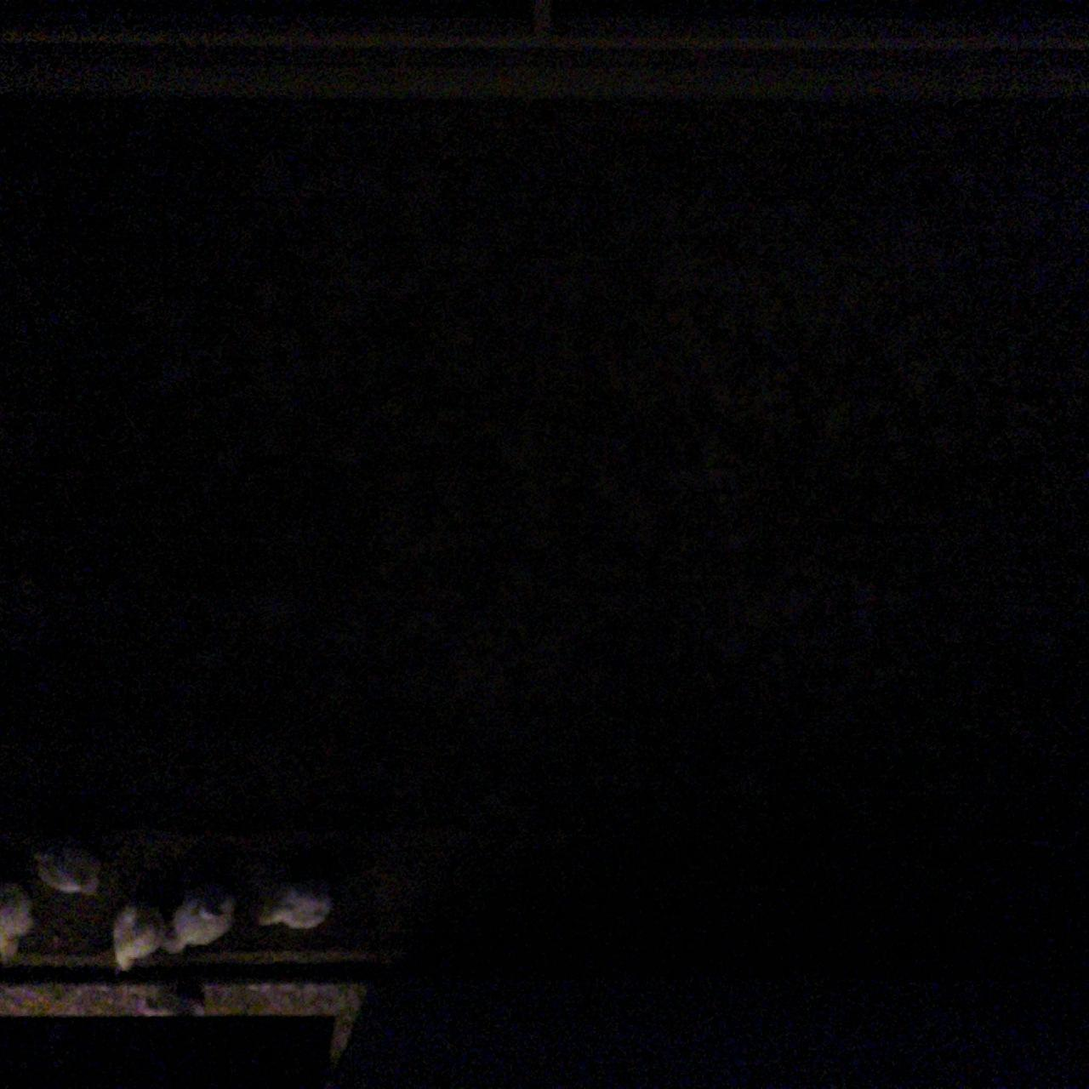chicken: (21, 831, 106, 901), (164, 883, 245, 954), (256, 874, 339, 936), (107, 896, 169, 974), (0, 883, 38, 959)
